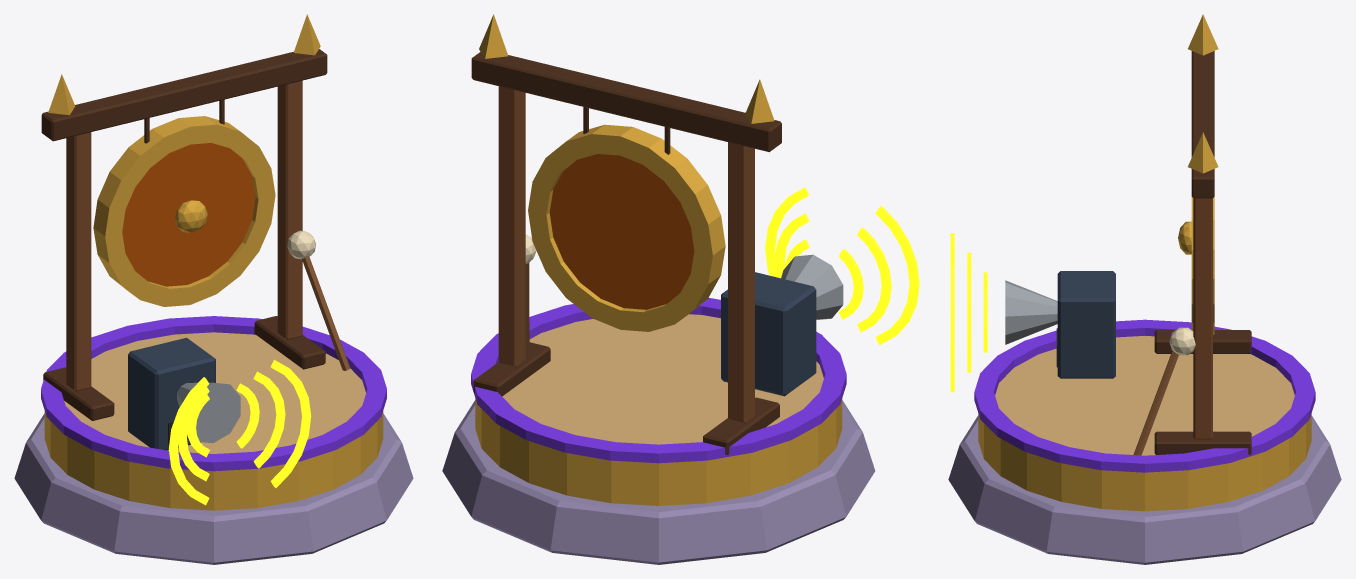
Rendered from stasiun_bunyi_v001.glb.
3 views of the same model, side by side, from view 1: azimuth 30°, elevation 25°; view 2: azimuth 150°, elevation 25°; view 3: azimuth 270°, elevation 25° (orthographic). The views are drawn at different scales.
Visible parts, largest first — view 1: Stasiun_Bunyi, Gelombang_Bunyi; view 2: Stasiun_Bunyi, Gelombang_Bunyi; view 3: Stasiun_Bunyi, Gelombang_Bunyi.
Boxes of the visible parts, x1=… form: Stasiun_Bunyi: x1=14, y1=14, x2=413, y2=564; Gelombang_Bunyi: x1=169, y1=360, x2=311, y2=505; Stasiun_Bunyi: x1=442, y1=14, x2=875, y2=564; Gelombang_Bunyi: x1=765, y1=187, x2=919, y2=345; Stasiun_Bunyi: x1=948, y1=14, x2=1341, y2=564; Gelombang_Bunyi: x1=950, y1=233, x2=987, y2=392.
Size of the model in its own units: 2.03 by 2.34 by 2.03.
